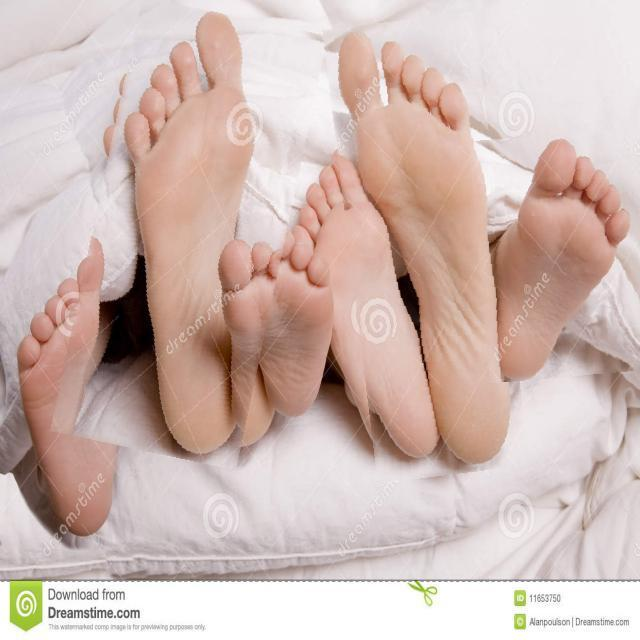Barefoots: (321, 25, 527, 474), (127, 7, 264, 466), (289, 142, 446, 480), (491, 142, 640, 409), (24, 226, 124, 566)
